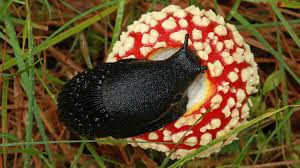slug: (60, 38, 203, 140)
